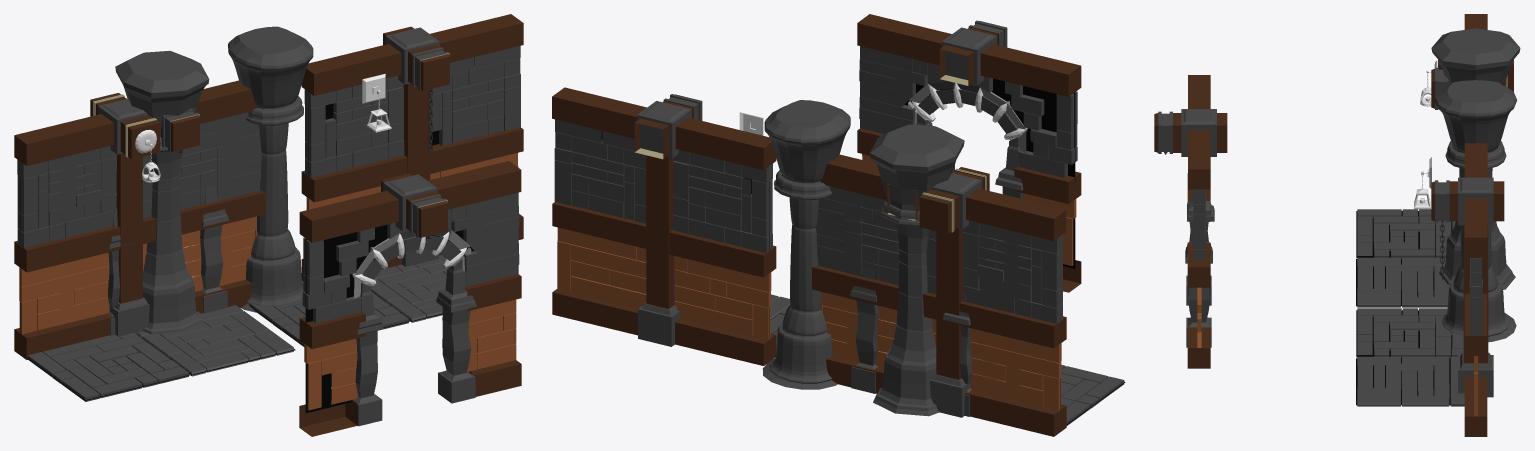
File: colonna_corretta_dangeon.fbx
3 renders of one model, left to right at view 1: azimuth 30°, elevation 25°; view 2: azimuth 150°, elevation 25°; view 3: azimuth 270°, elevation 25°, orthographic. The views are drawn at different scales.
Visible parts, largest first — view 1: Cube.009, Cube.003, Cube, Cube.008, Cube.002, Cube.001, Cube.005, Cube.007, Cube.006, Cube.004, Plane, Plane.001; view 2: Cube.003, Cube, Cube.009, Cube.002, Cube.001, Cube.008, Cube.005; view 3: Cube.003, Cube.009, Cube.002, Cube.001, Cube.006, Cube.004, Cube.007, Cube.005, Cube, Cube.008, Plane.
Boxes of the visible parts, <box> form: Cube.009: <box>299,161,521,436</box>; Cube.003: <box>301,14,523,281</box>; Cube: <box>14,93,234,359</box>; Cube.008: <box>52,80,266,335</box>; Cube.002: <box>228,26,313,312</box>; Cube.001: <box>115,50,209,334</box>; Cube.005: <box>27,333,189,401</box>; Cube.007: <box>137,305,295,376</box>; Cube.006: <box>370,255,447,322</box>; Cube.004: <box>248,292,409,346</box>; Plane: <box>362,73,391,132</box>; Plane.001: <box>135,129,160,182</box>; Cube.003: <box>552,87,776,365</box>; Cube: <box>842,166,1066,436</box>; Cube.009: <box>857,14,1081,292</box>; Cube.002: <box>762,100,850,389</box>; Cube.001: <box>869,124,964,416</box>; Cube.008: <box>812,154,1028,416</box>; Cube.005: <box>1061,364,1125,425</box>; Cube.003: <box>1431,143,1504,436</box>; Cube.009: <box>1154,75,1227,368</box>; Cube.002: <box>1434,80,1516,342</box>; Cube.001: <box>1431,28,1520,289</box>; Cube.006: <box>1356,356,1464,406</box>; Cube.004: <box>1356,308,1463,358</box>; Cube.007: <box>1356,257,1449,307</box>; Cube.005: <box>1356,209,1455,258</box>; Cube: <box>1438,14,1513,91</box>; Cube.008: <box>1431,67,1504,109</box>; Plane: <box>1414,157,1431,209</box>.
Bounding box in the file's own units: 1426 × 700 × 986.
